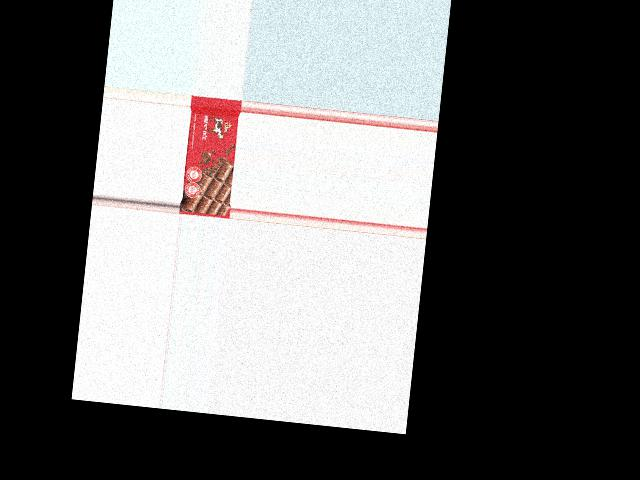chocolate: (179, 94, 241, 217)
